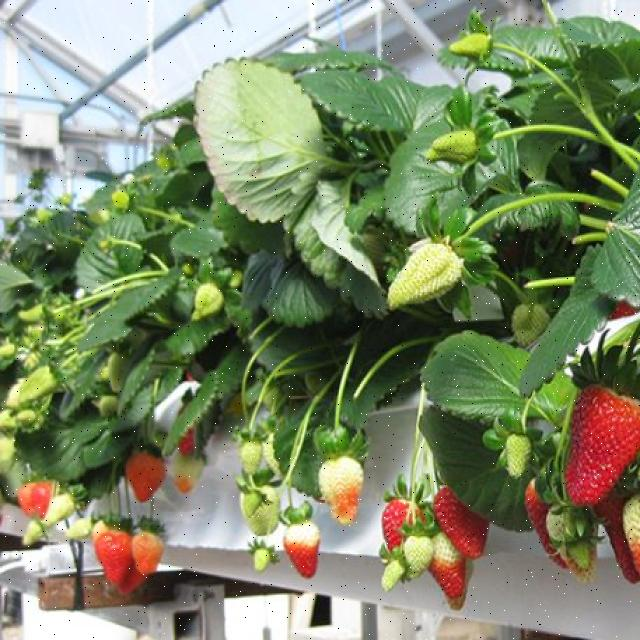Ripe Strawberry: (564, 390, 639, 502), (435, 488, 490, 558), (600, 500, 637, 584), (128, 451, 164, 501), (384, 502, 418, 548), (98, 531, 130, 576), (116, 558, 146, 595), (30, 483, 48, 518), (180, 430, 196, 458)
